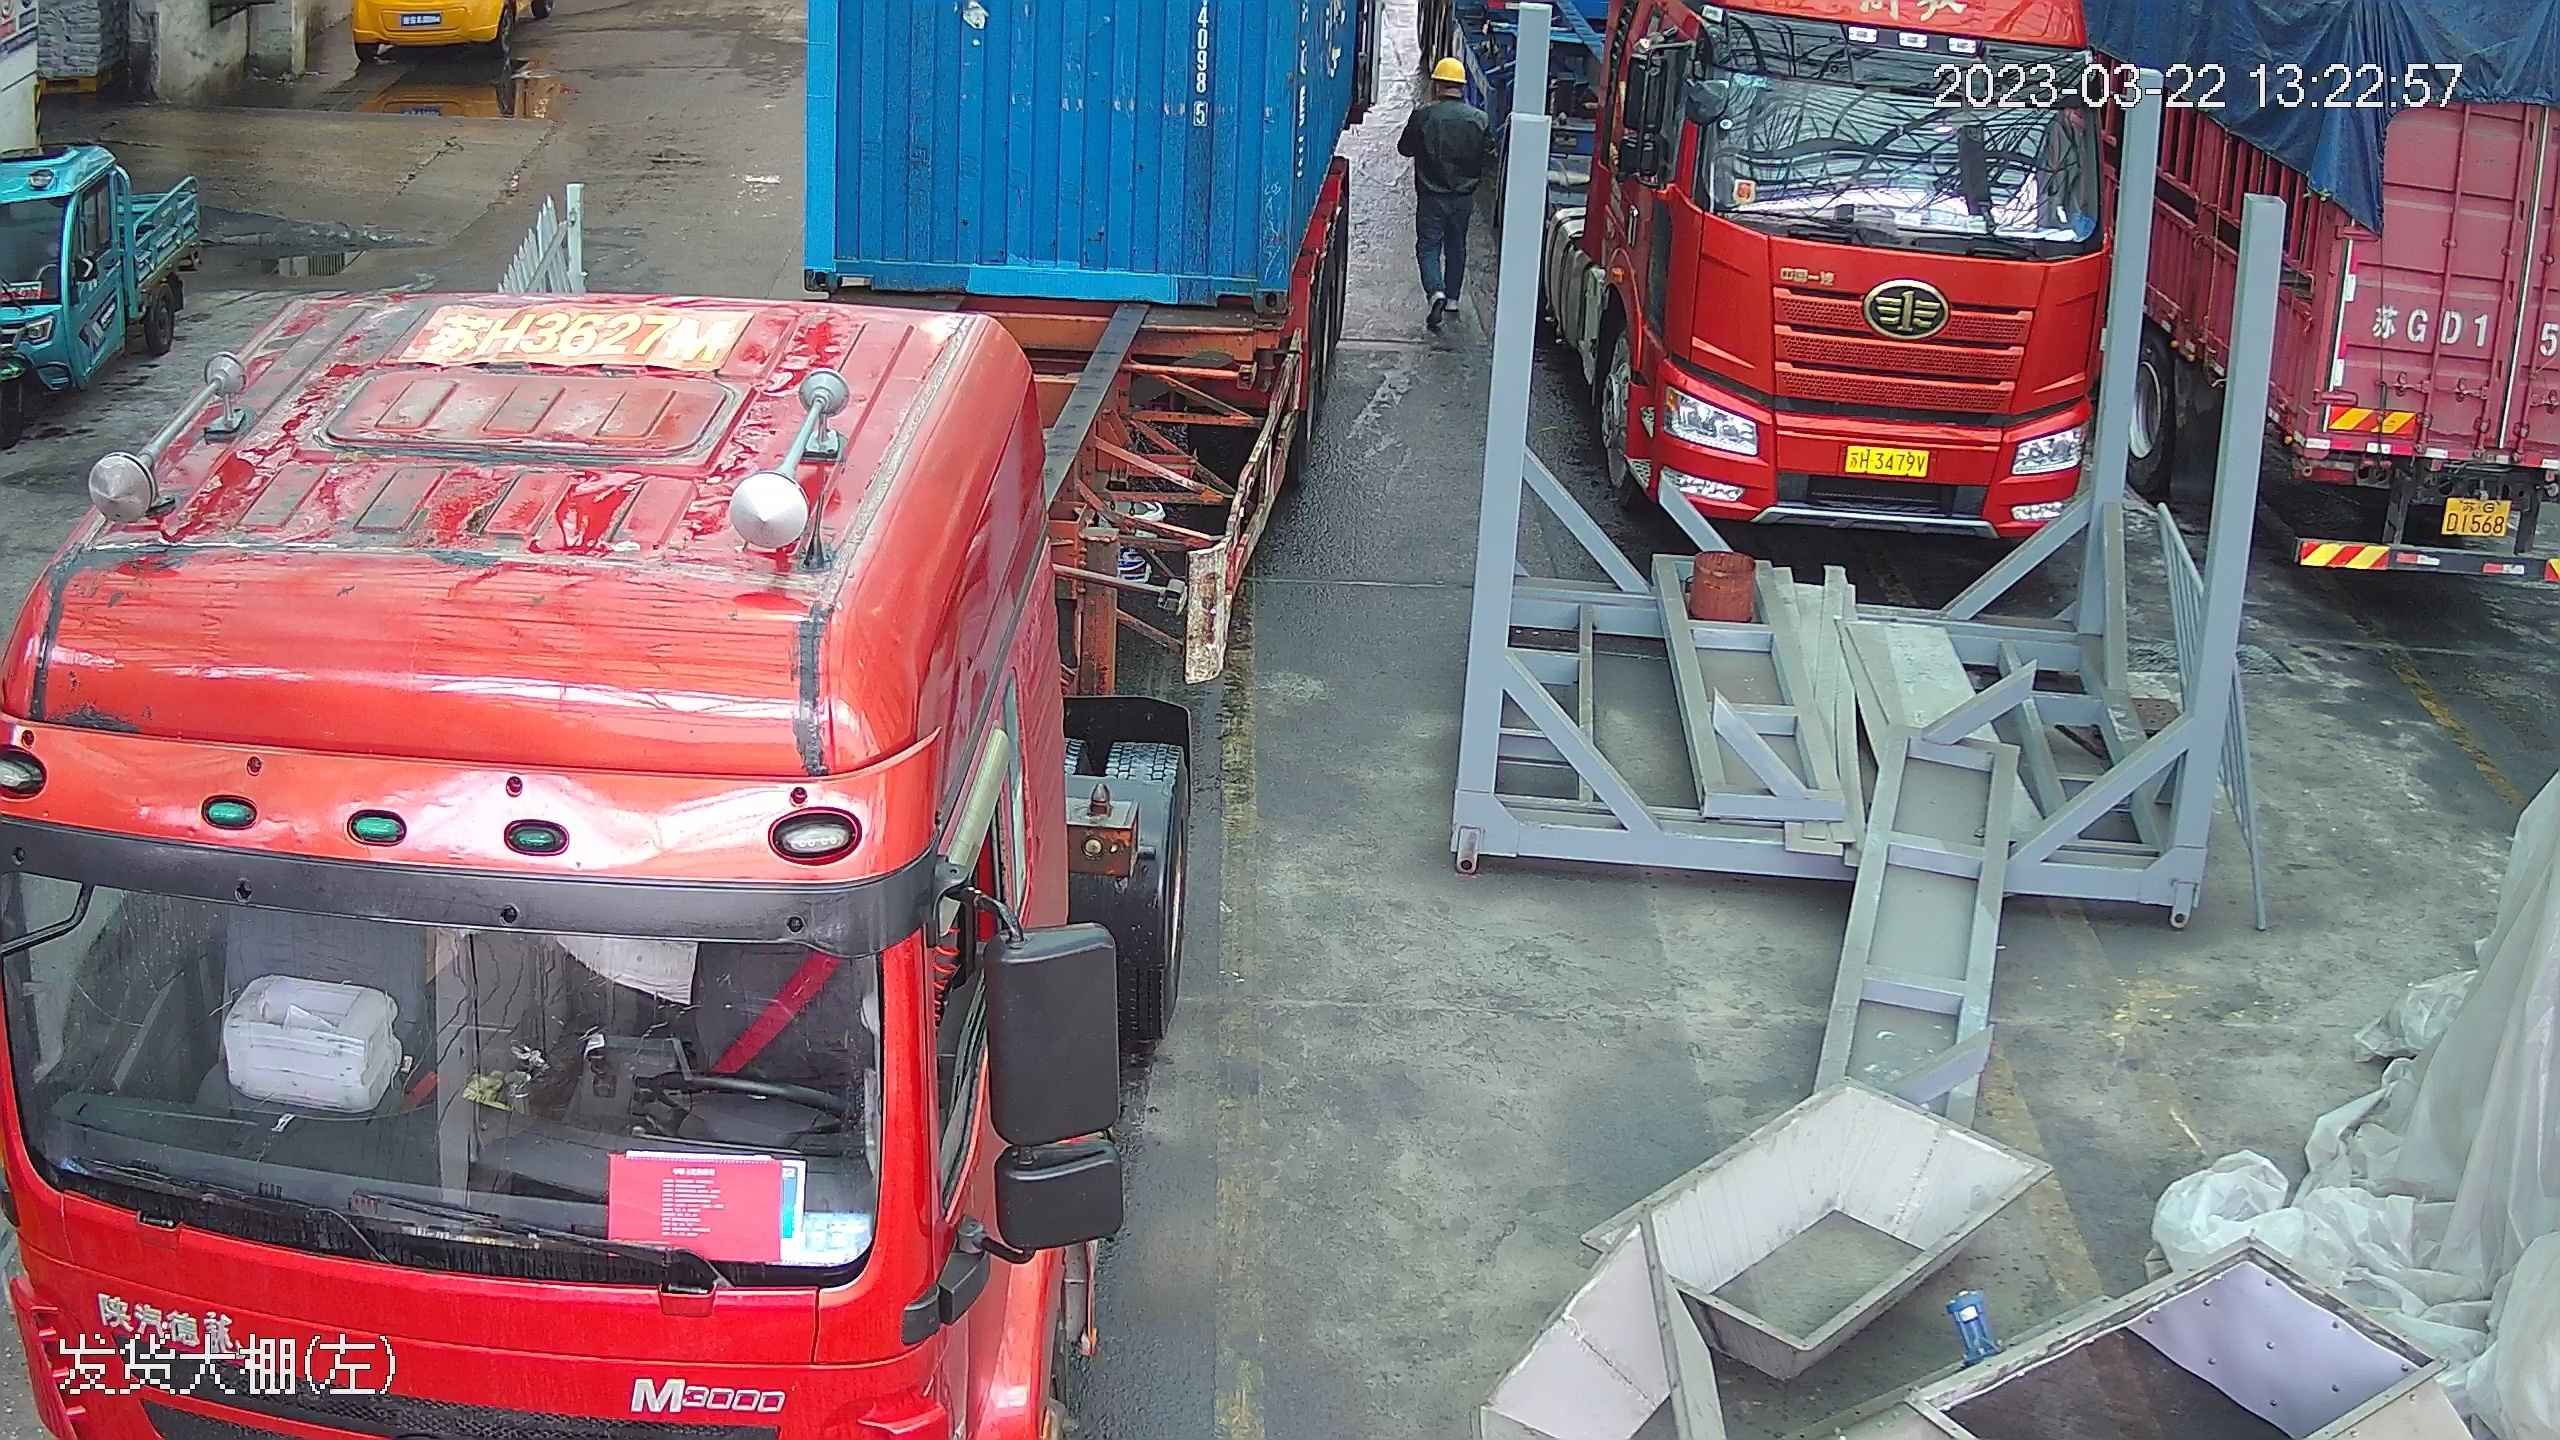head: (1410, 52, 1486, 129)
helmet: (1426, 52, 1464, 84)
people: (1398, 50, 1495, 330)
truck: (0, 234, 1250, 1440), (1577, 0, 2135, 555), (2148, 25, 2559, 591)
